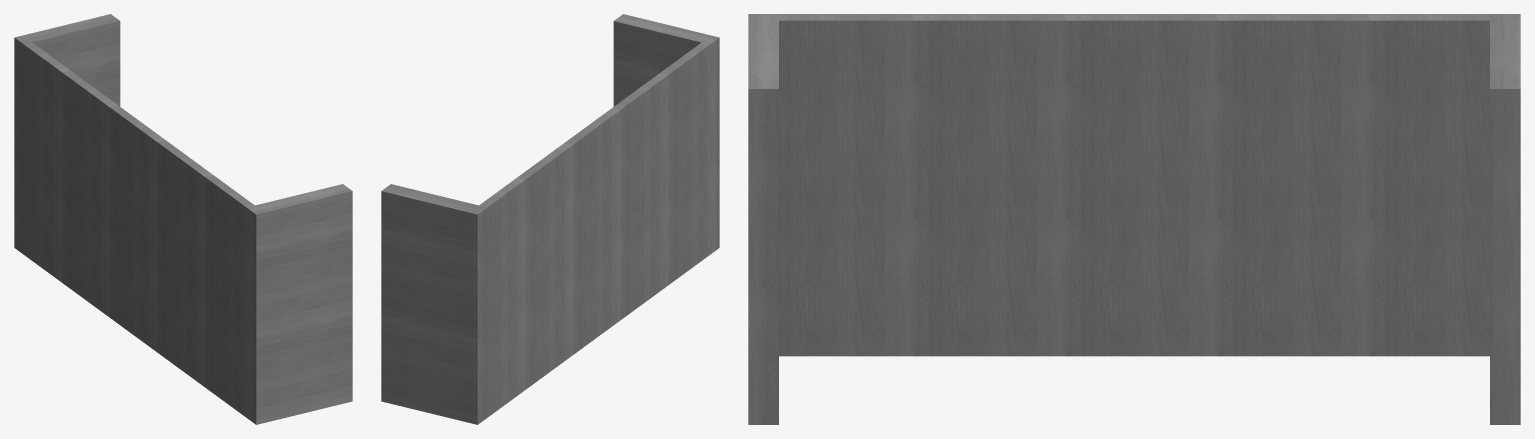
The model's file is desk.glb.
3 renders of one model, left to right at view 1: azimuth 30°, elevation 25°; view 2: azimuth 150°, elevation 25°; view 3: azimuth 270°, elevation 25°, orthographic. The views are drawn at different scales.
Visible parts, largest first — view 1: desk.005; view 2: desk.005; view 3: desk.005.
Part boxes in pixels (<box>): desk.005: <box>14,14,352,424</box>; desk.005: <box>381,14,719,424</box>; desk.005: <box>748,14,1520,424</box>.
Bounding box in the file's own units: 1.92 × 4 × 8.34.
1 material, 1 textured.
